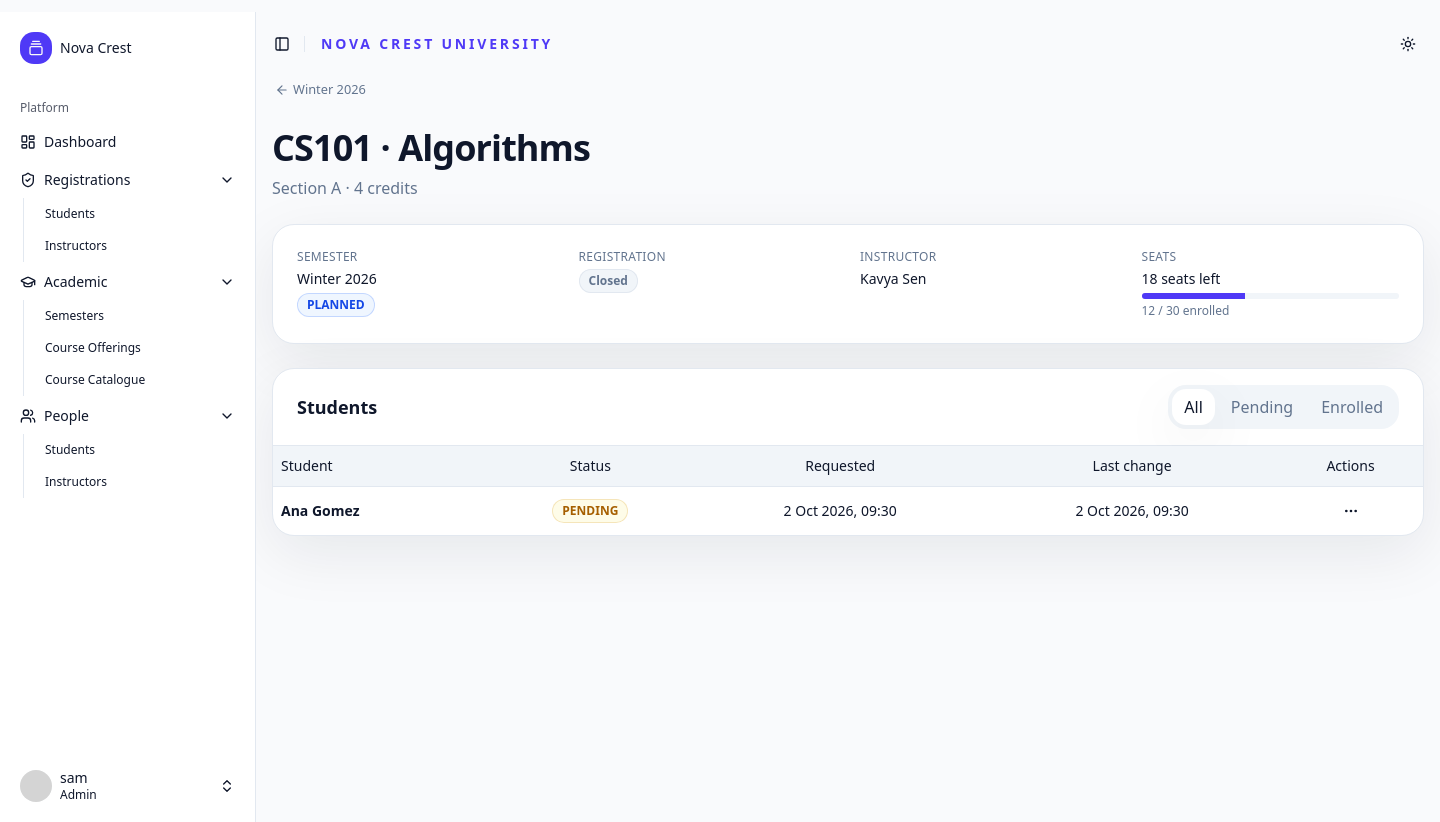
Test: OfferingDetail › shows the server message when an approval is refused
Click the button named "Actions for Ana Gomez" in the row of "Ana Gomez": {"x": 1350, "y": 510} [1334,494,1366,526]
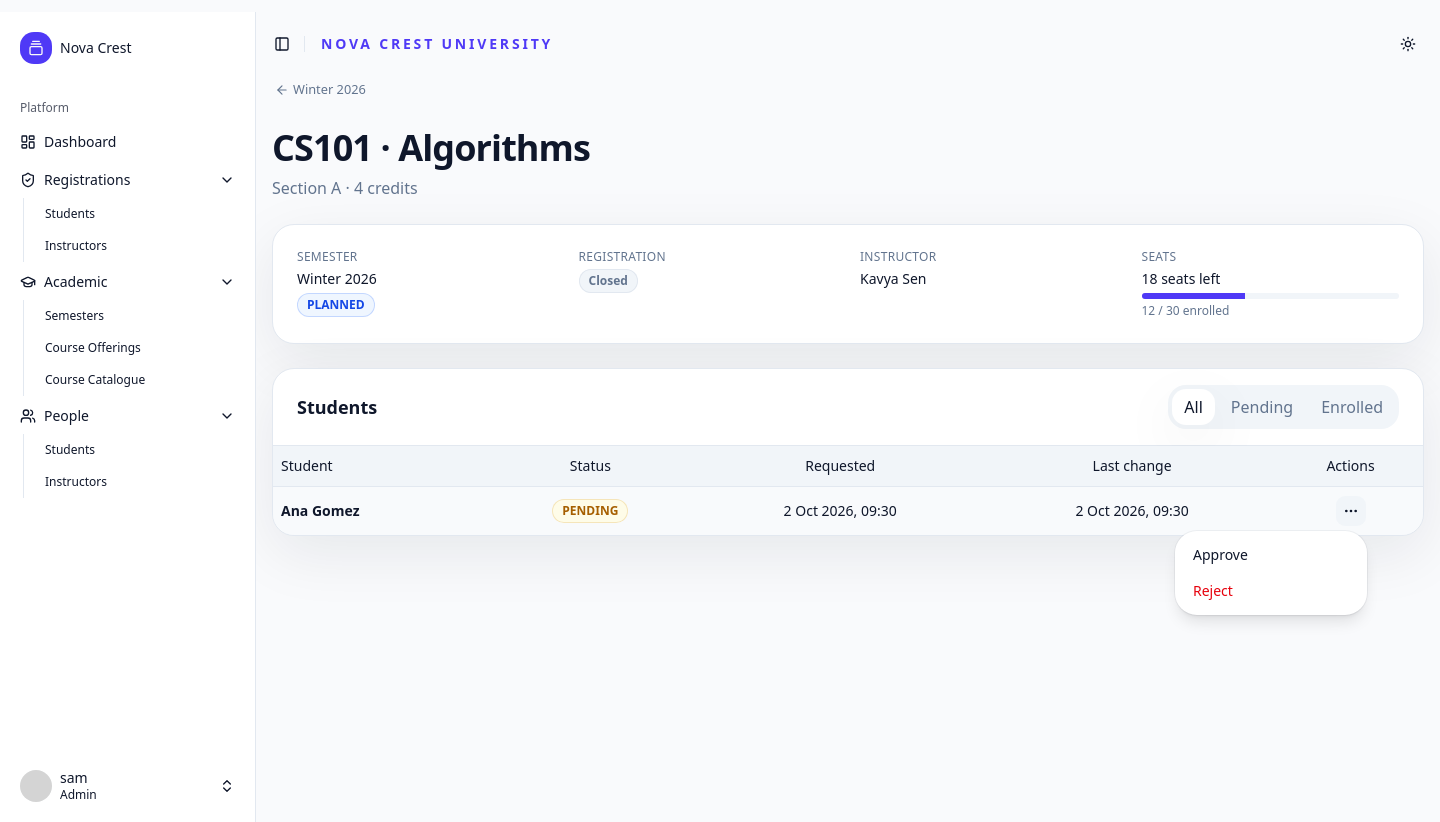
Click the menu item "Approve": {"x": 1220, "y": 554} [1193,545,1248,564]
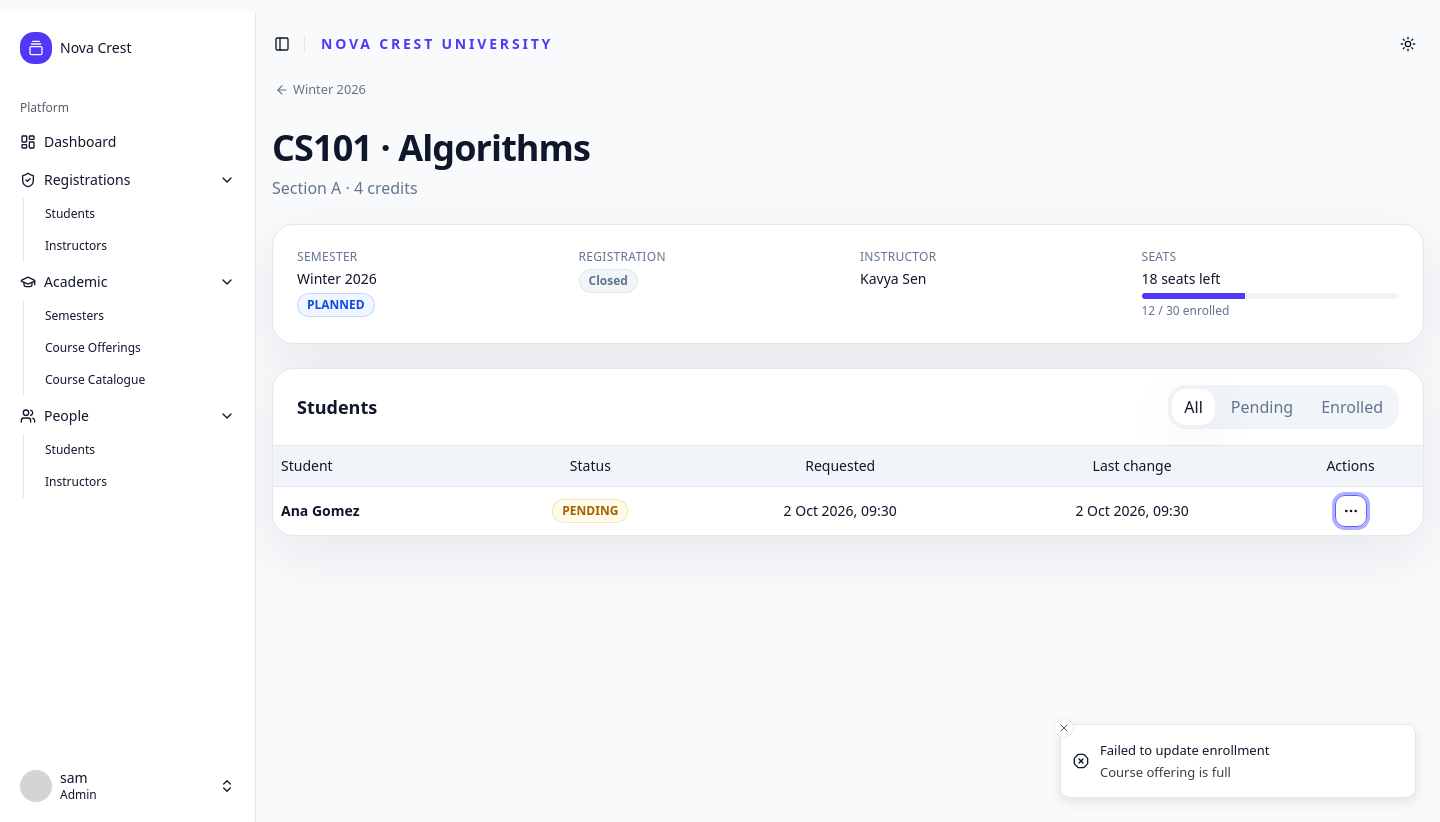
Result: the text "Failed to update enrollment" is shown at [1100,741,1269,761]
Result: the text "Course offering is full" is shown at [1100,763,1231,781]
